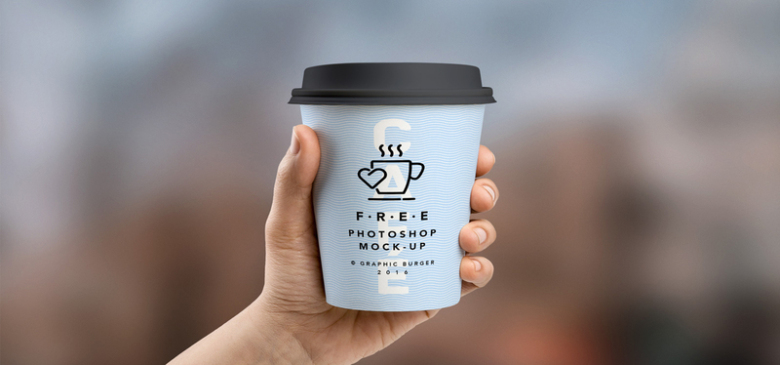no-phone: (241, 57, 507, 363)
